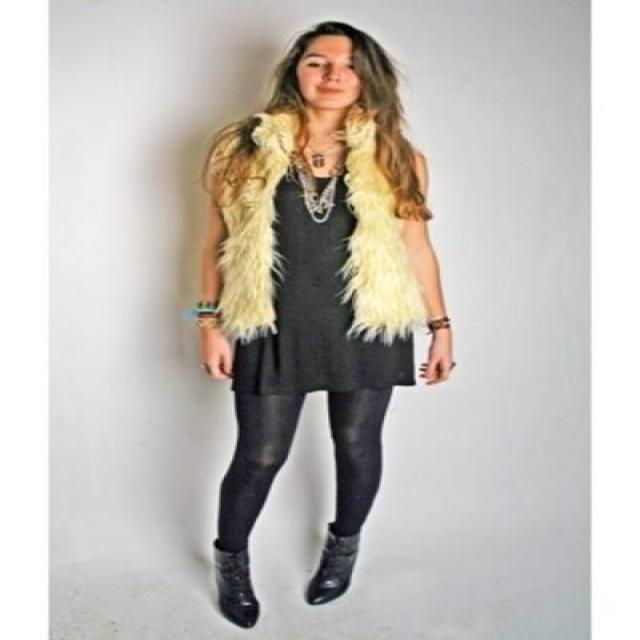dress: (226, 115, 414, 396)
jacket: (218, 113, 426, 344)
pants: (214, 381, 390, 549)
shoe: (216, 525, 362, 627)
